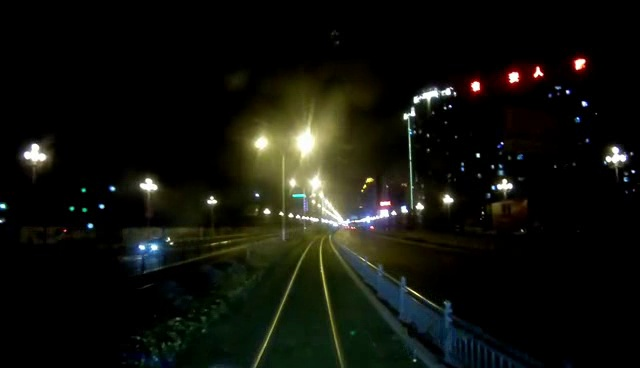car: (136, 235, 178, 255)
